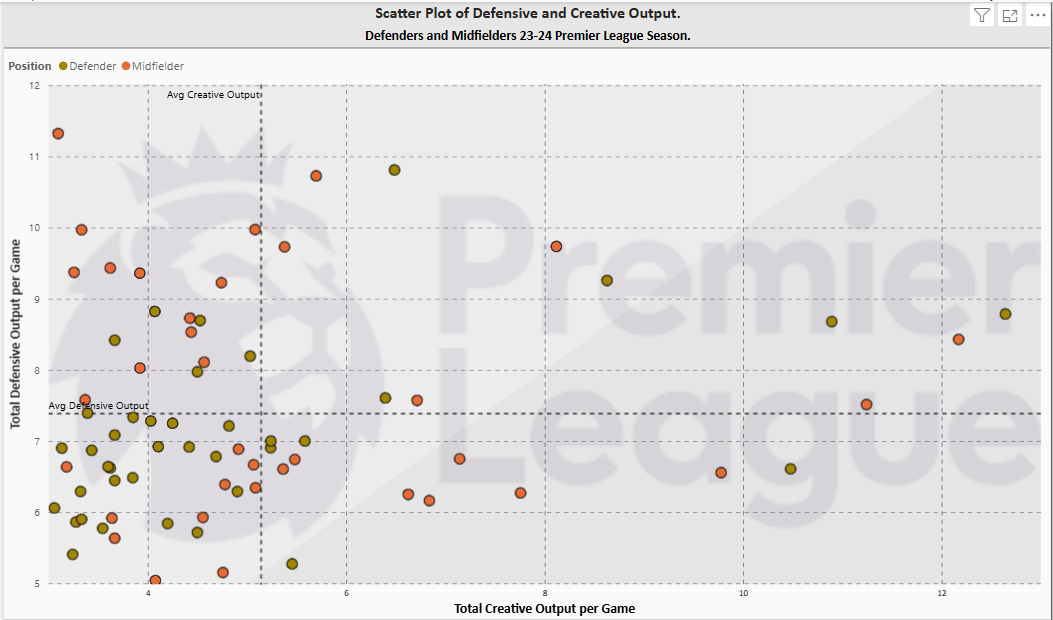

This screenshot's page, from the dashboard's own definition file:
{"tool":"powerbi","page":{"name":"Page 4","canvas":[1280,720],"ordinal":3},"visuals":[{"type":"scatterChart","title":"Scatter Plot of Defensive and Creative Output.","fields":{"Category":["pl_23_24.Name"],"X":["pl_23_24.TotalCreativePerformance"],"Y":["pl_23_24.TotalDefensivePerformance"]},"box":[0,0,1219.7,719.8],"z":0}]}

Visuals, with their boxes on the page's 1280x720 design canvas (x1, y1, x2, y2). These are canvas units, not pixel positions in the 1053x620 screenshot, which may show the page scaled, cropped or inside an application window:
"Scatter Plot of Defensive and Creative Output." scatterChart: rect(0, 0, 1220, 720)
